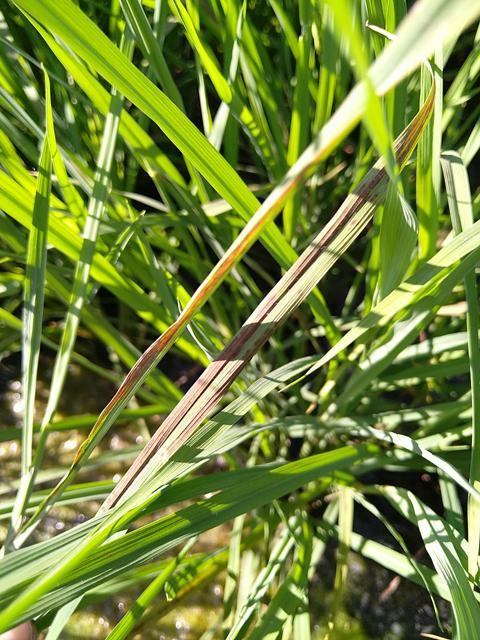Leaf Streak: (52, 89, 367, 499), (102, 166, 391, 515), (393, 103, 433, 169)
